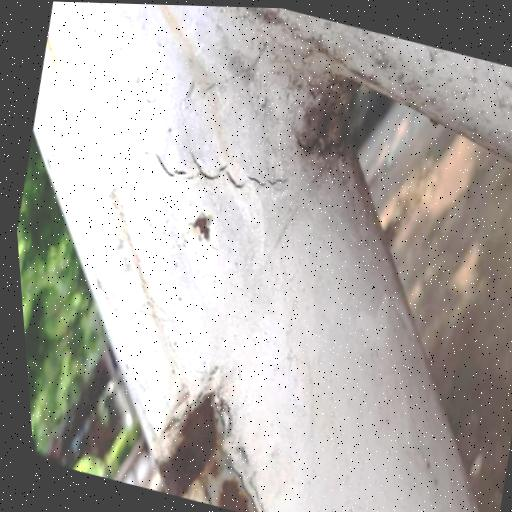crack: (130, 130, 300, 214)
